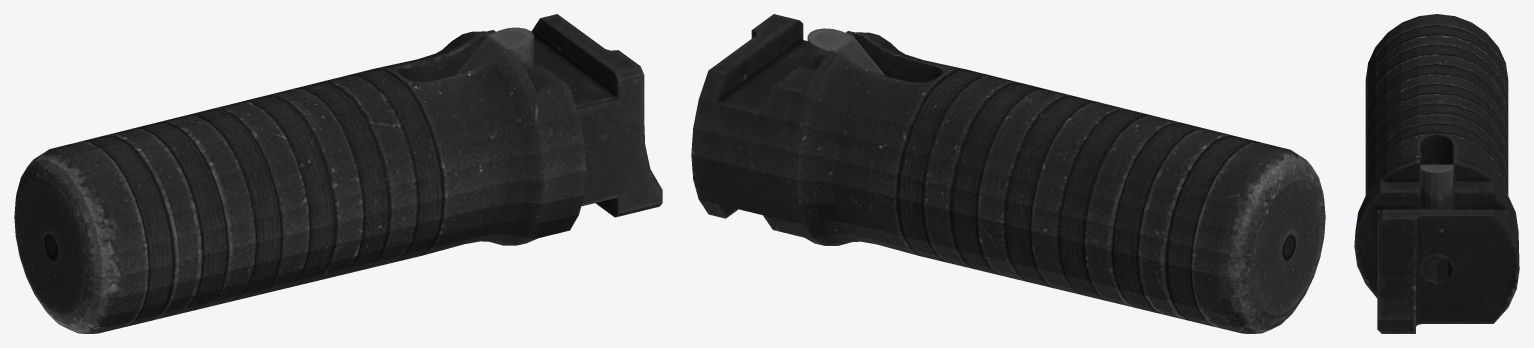
3 views of the same model, side by side, from view 1: azimuth 30°, elevation 25°; view 2: azimuth 150°, elevation 25°; view 3: azimuth 270°, elevation 25° (orthographic). The views are drawn at different scales.
Parts seen in each view (by area): view 1: TW_661ceb1b9311543c7104149b_PZ_Import; view 2: TW_661ceb1b9311543c7104149b_PZ_Import; view 3: TW_661ceb1b9311543c7104149b_PZ_Import.
Boxes of the visible parts, x1,y1,x2,y2 form: TW_661ceb1b9311543c7104149b_PZ_Import: (14, 14, 662, 333); TW_661ceb1b9311543c7104149b_PZ_Import: (691, 14, 1325, 333); TW_661ceb1b9311543c7104149b_PZ_Import: (1354, 14, 1519, 333).
Size of the model in its own units: 0.0301 by 0.0101 by 0.00991.
Materials: 1 (1 with a texture image).
